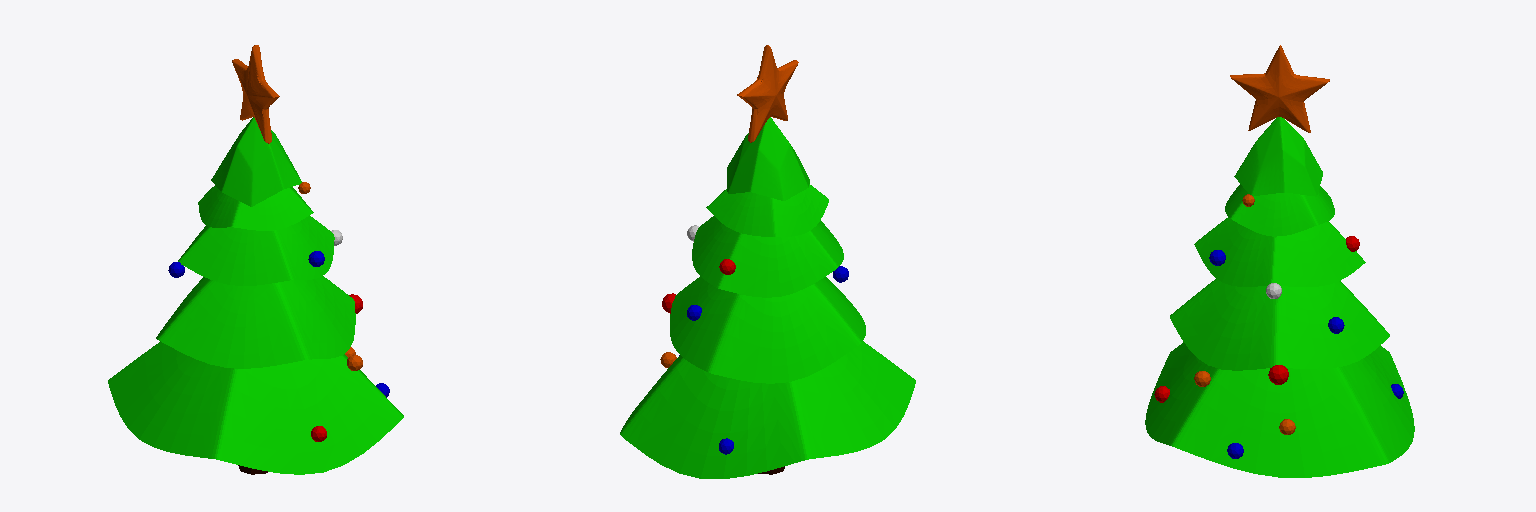
The model's file is tree.obj.
3 views of the same model, side by side, from view 1: azimuth 30°, elevation 25°; view 2: azimuth 150°, elevation 25°; view 3: azimuth 270°, elevation 25° (orthographic).
Parts seen in each view (by area): view 1: Cylinder, Cylinder.001, Cylinder.002, Cylinder.004, Cylinder.003, Circle, Icosphere.006; view 2: Cylinder, Cylinder.001, Cylinder.002, Cylinder.004, Cylinder.003, Circle, Icosphere.006; view 3: Cylinder, Cylinder.001, Cylinder.002, Cylinder.004, Circle, Cylinder.003, Icosphere.006, Icosphere.
Boxes of the visible parts, x1=… form: Cylinder: x1=108, y1=341, x2=403, y2=474; Cylinder.001: x1=156, y1=276, x2=355, y2=368; Cylinder.002: x1=178, y1=215, x2=334, y2=285; Cylinder.004: x1=211, y1=117, x2=301, y2=206; Cylinder.003: x1=198, y1=186, x2=313, y2=230; Circle: x1=232, y1=45, x2=279, y2=143; Icosphere.006: x1=168, y1=251, x2=389, y2=441; Cylinder: x1=620, y1=341, x2=915, y2=478; Cylinder.001: x1=670, y1=276, x2=865, y2=383; Cylinder.002: x1=692, y1=216, x2=843, y2=297; Cylinder.004: x1=727, y1=117, x2=809, y2=200; Cylinder.003: x1=706, y1=184, x2=828, y2=236; Circle: x1=737, y1=45, x2=798, y2=142; Icosphere.006: x1=660, y1=259, x2=848, y2=454; Cylinder: x1=1145, y1=342, x2=1414, y2=477; Cylinder.001: x1=1170, y1=278, x2=1389, y2=370; Cylinder.002: x1=1194, y1=217, x2=1365, y2=286; Cylinder.004: x1=1234, y1=117, x2=1322, y2=196; Circle: x1=1230, y1=45, x2=1329, y2=132; Cylinder.003: x1=1225, y1=184, x2=1334, y2=236; Icosphere.006: x1=1154, y1=236, x2=1403, y2=458; Icosphere: x1=1242, y1=194, x2=1288, y2=384.
Size of the model in its own units: 3.33 by 5.75 by 3.33.